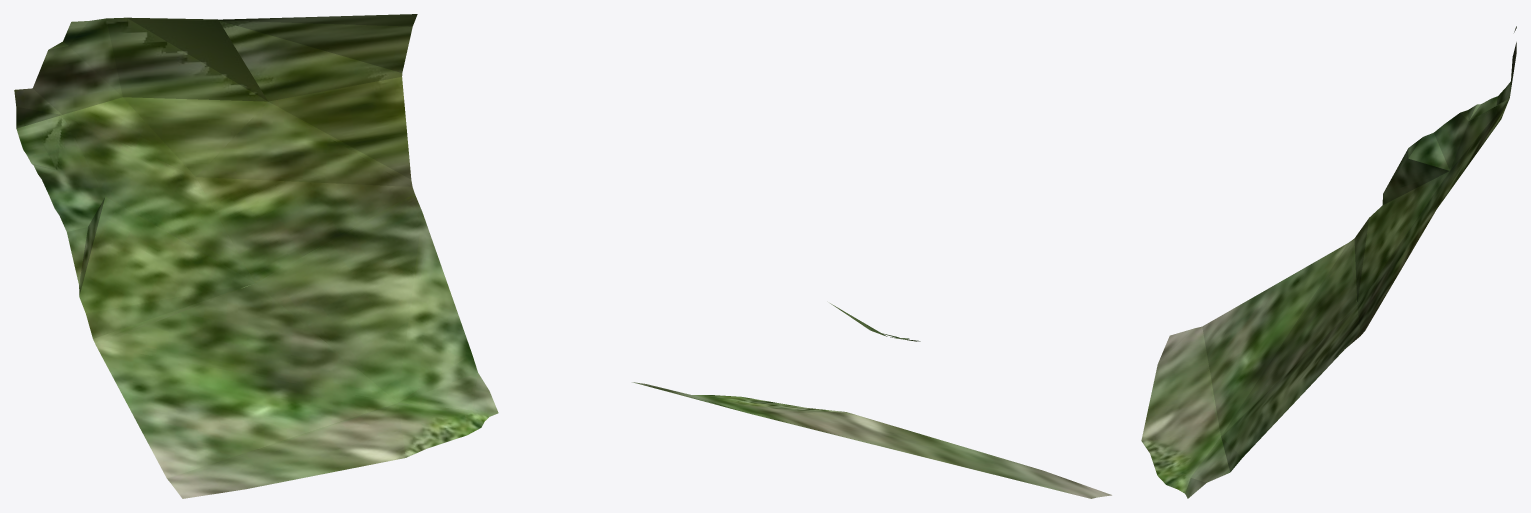
3 views of the same model, side by side, from view 1: azimuth 30°, elevation 25°; view 2: azimuth 150°, elevation 25°; view 3: azimuth 270°, elevation 25° (orthographic). The views are drawn at different scales.
Size of the model in its own units: 1.67 by 1.67 by 1.63.
Materials: 4 (4 with a texture image).
